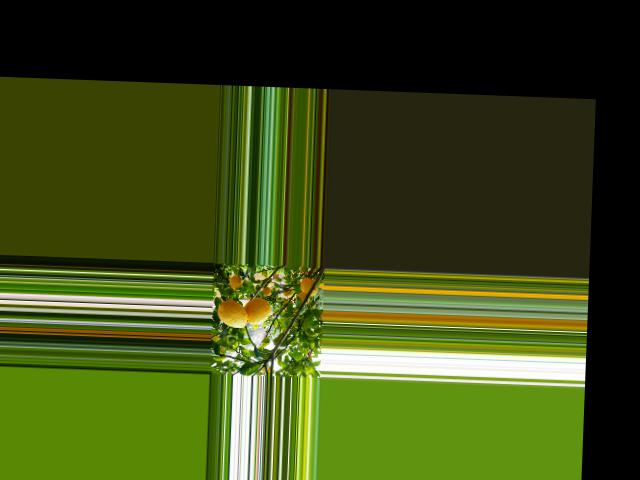lemon: (242, 293, 273, 328)
